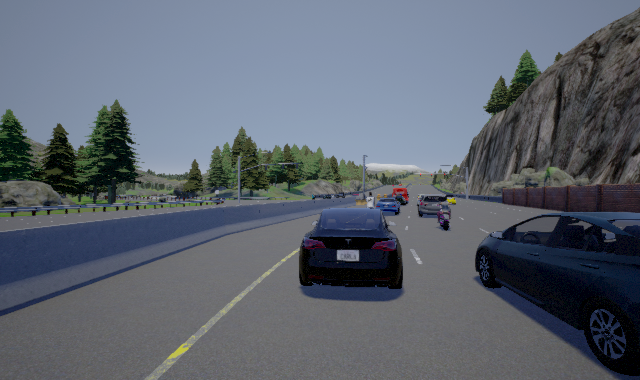motobike: (436, 197, 457, 230)
vehicle: (475, 212, 640, 376), (299, 206, 403, 292), (417, 194, 451, 216), (376, 197, 401, 213)
